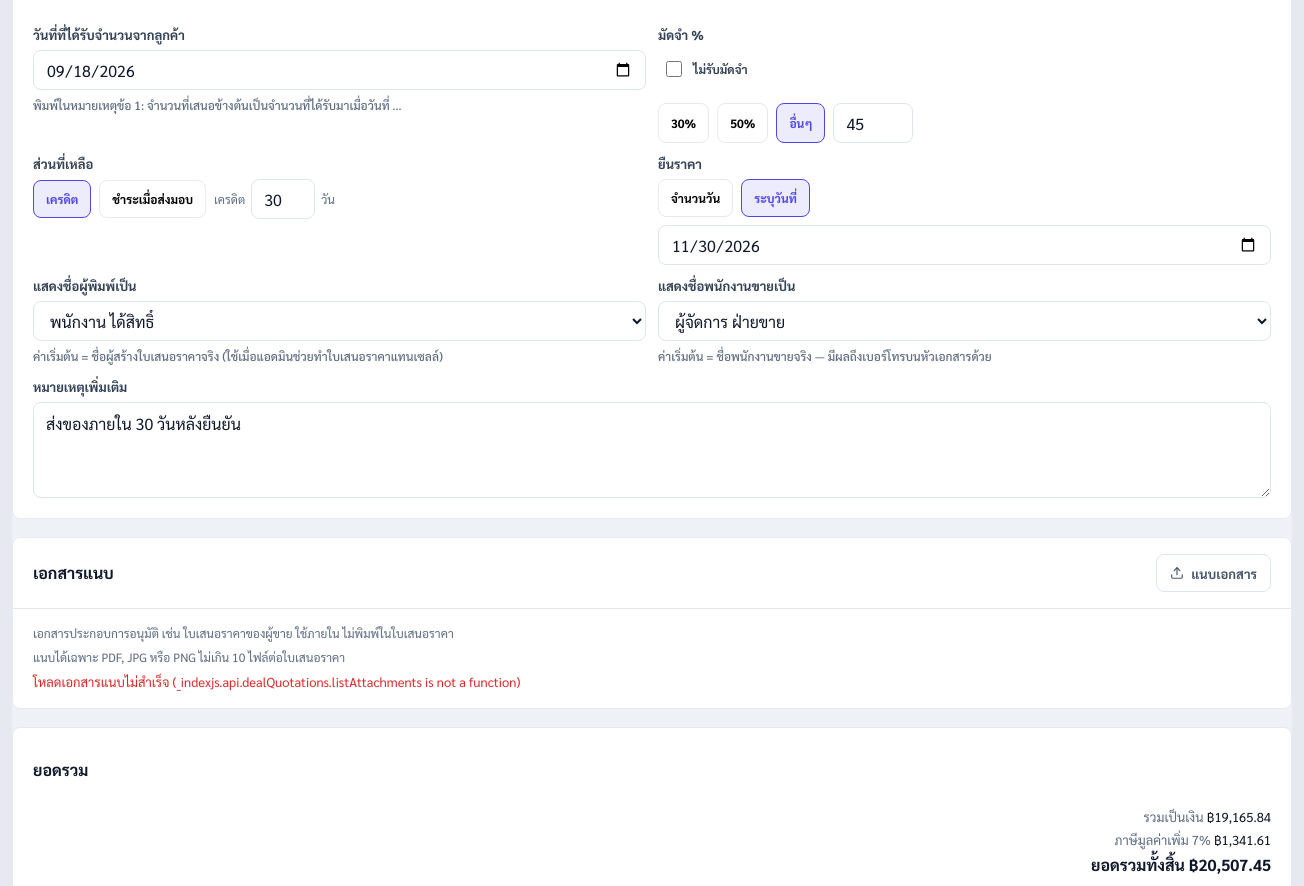
it: the "คัดลอกเป็นใบใหม่" button on a saved quotation › on a draft, waits for unsaved edits to be saved first
The image size is (1304, 886).
(page scrolled)
Replace the text in the text box with id "customerNotes" with "แก้ไขหมายเหตุ ยังไม่ได้บันทึก" at (652, 450), box [33,402,1271,498]
(page scrolled)
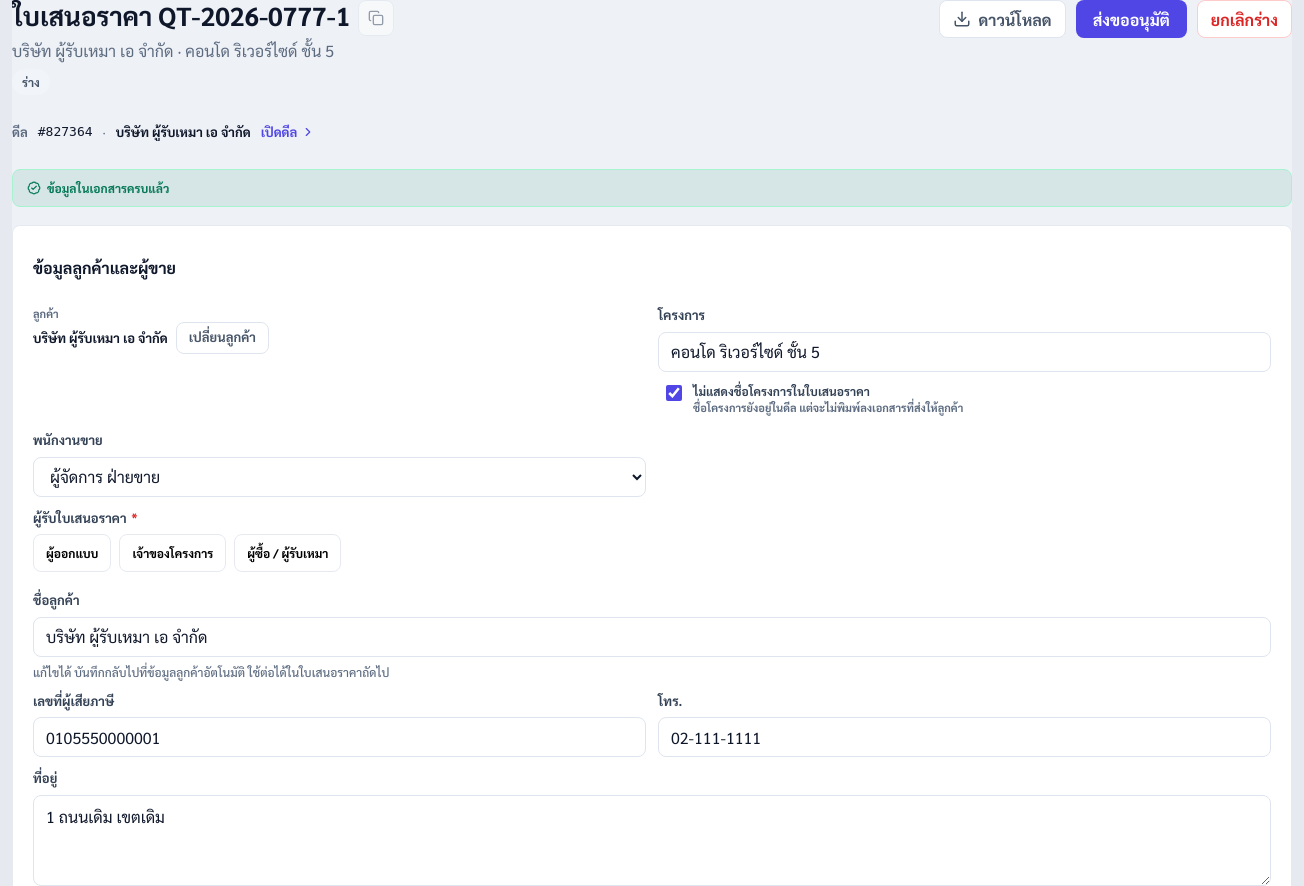
Check: the button named "คัดลอกเป็นใบใหม่" is disabled, box [358,0,394,36]
